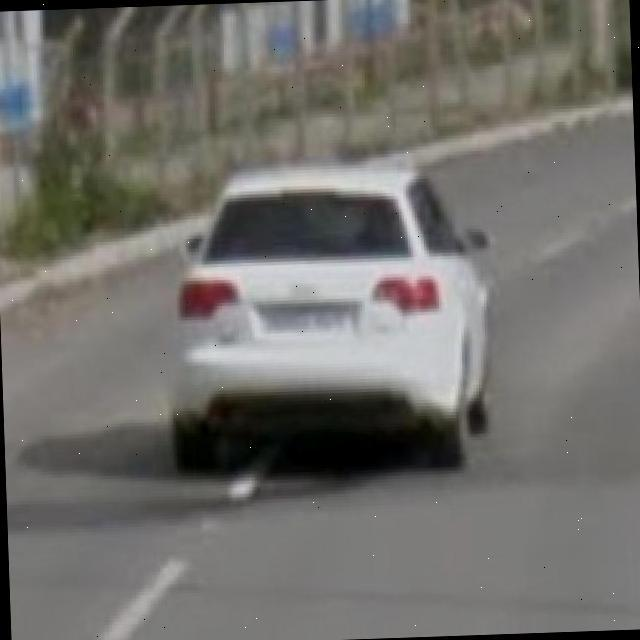car: (170, 166, 497, 470)
